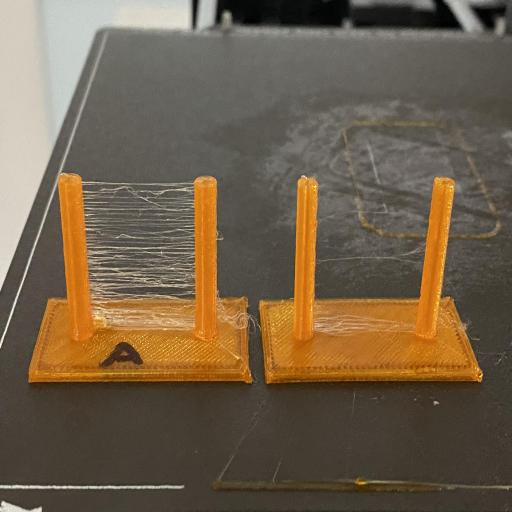stringing: (82, 184, 195, 332), (313, 318, 416, 338), (217, 297, 260, 335)
